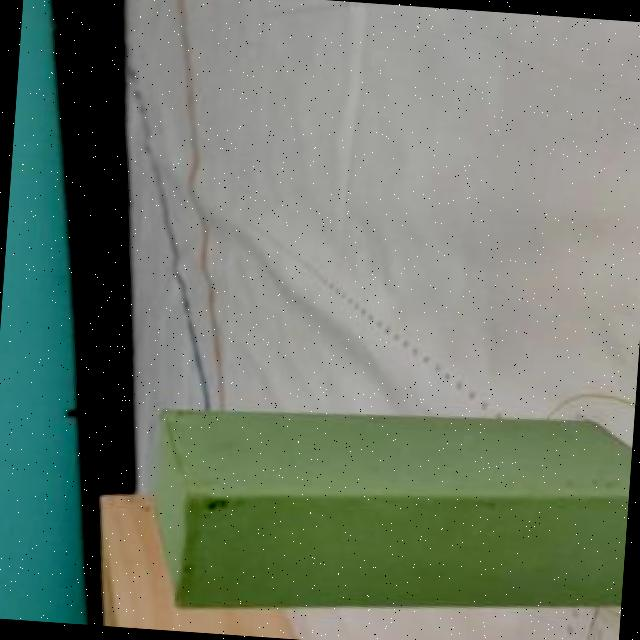greenbox: (139, 390, 633, 640)
